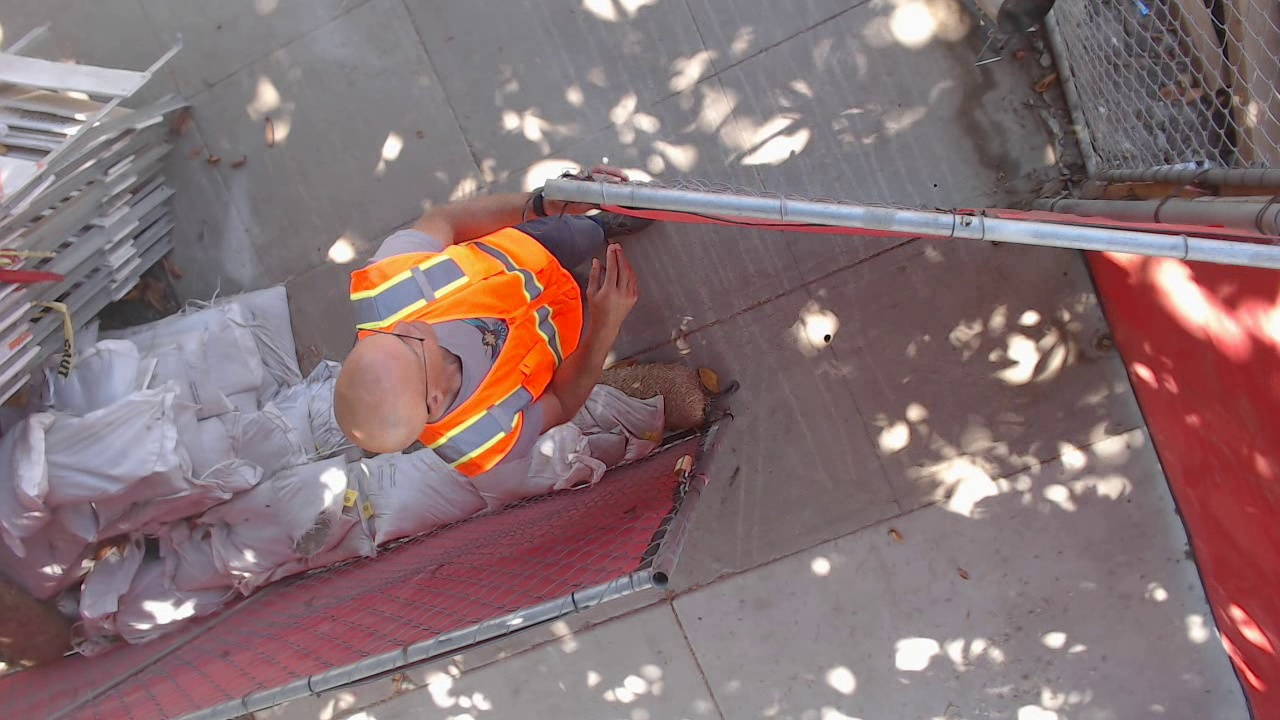person: (336, 167, 656, 467)
safetyvest: (350, 226, 582, 477)
